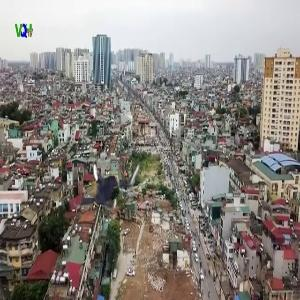drone: (71, 154, 142, 225)
